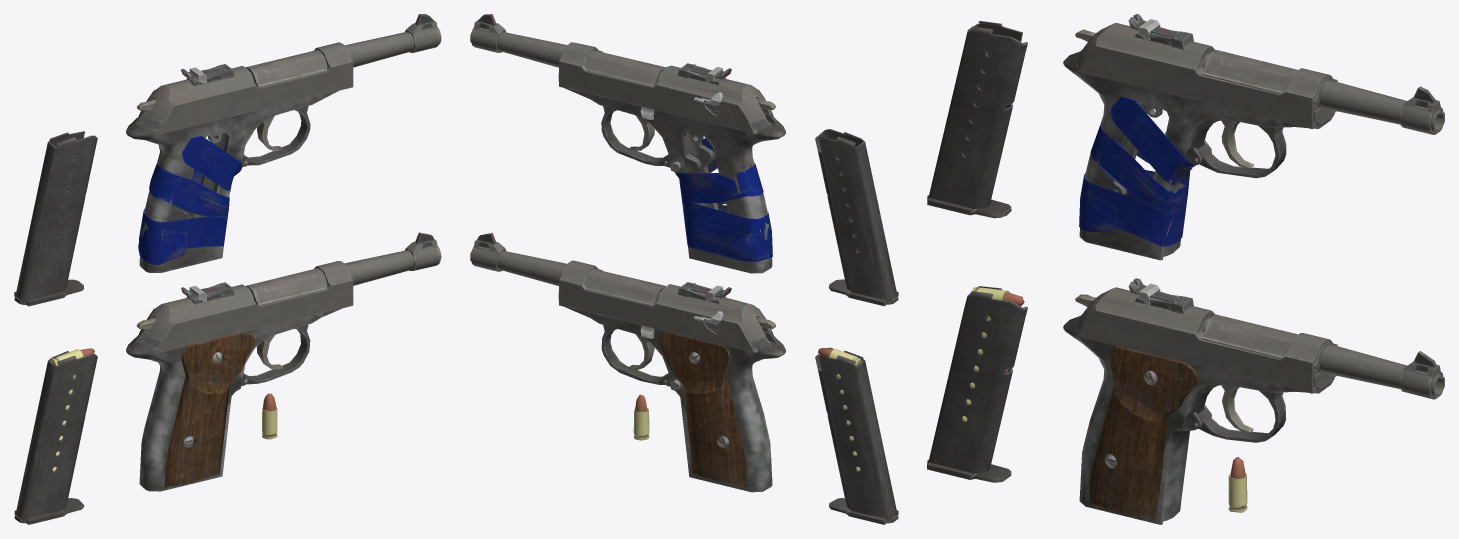
Rendered from service_pistol.glb.
3 renders of one model, left to right at view 1: azimuth 30°, elevation 25°; view 2: azimuth 150°, elevation 25°; view 3: azimuth 330°, elevation 25°, orthographic. The views are drawn at different scales.
Visible parts, largest first — view 1: service_pistol_pistol_a; view 2: service_pistol_pistol_a; view 3: service_pistol_pistol_a.
Part boxes in pixels (left/top/right/bottom): service_pistol_pistol_a: left=14, top=14, right=441, bottom=524; service_pistol_pistol_a: left=470, top=14, right=898, bottom=524; service_pistol_pistol_a: left=927, top=14, right=1444, bottom=524.
Size of the model in its own units: 0.3016 by 0.2807 by 0.0318.
1 material, 1 textured.
